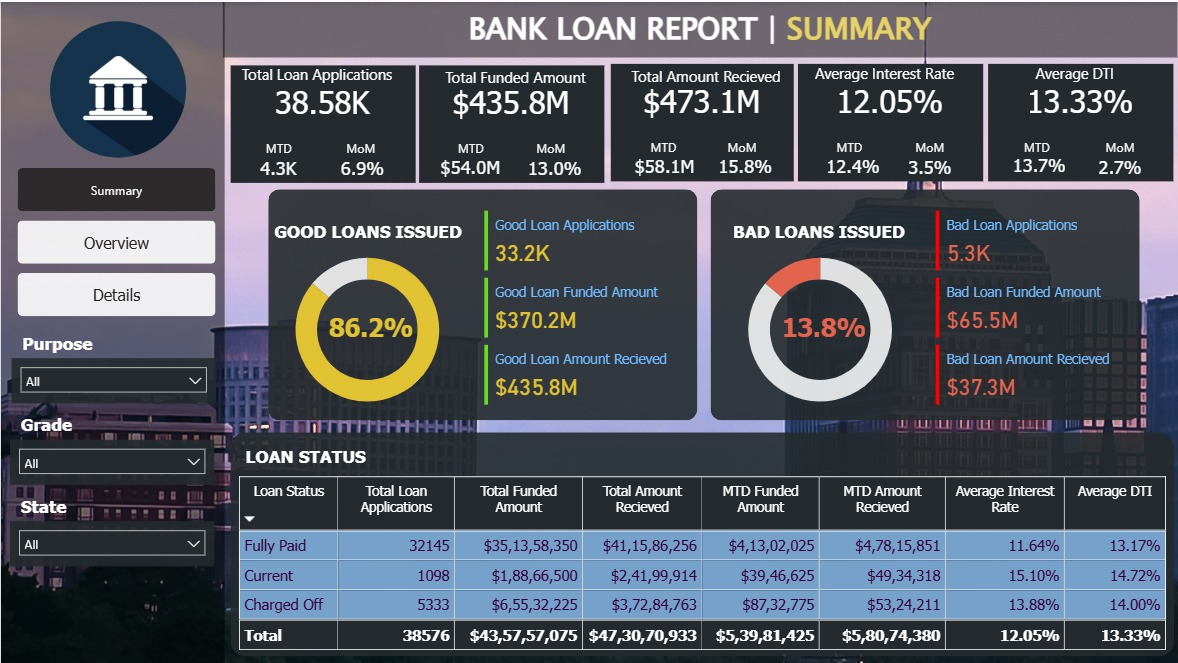

Layout of this report page (visuals, bound fields, positions):
{"tool":"powerbi","page":{"name":"Summary","canvas":[1280,720],"ordinal":0},"visuals":[{"type":"shape","box":[1072.5,67.5,201.2,127.6],"z":0,"group":"g5"},{"type":"shape","box":[661.9,67.8,198.8,127.6],"z":0,"group":"g3"},{"type":"shape","box":[865.9,67.8,201.2,127.6],"z":0,"group":"g4"},{"type":"shape","box":[248.8,68.5,201.2,127.6],"z":0,"group":"g2"},{"type":"shape","box":[454.4,68.6,201.2,127.6],"z":0,"group":"g1"},{"type":"slicer","fields":{"Values":["bank_loan_analysis.purpose"]},"box":[11,387.7,222.1,49.1],"z":0,"group":"g11"},{"type":"slicer","fields":{"Values":["bank_loan_analysis.grade"]},"box":[9.8,476,222.1,49.1],"z":0,"group":"g9"},{"type":"slicer","fields":{"Values":["bank_loan_analysis.address_state"]},"box":[9.8,564.4,222.1,49.1],"z":0,"group":"g8"},{"type":"textbox","box":[241.7,0,1036.8,60.1],"z":1000},{"type":"card","fields":{"Values":["bank_loan_analysis.Average DTI"]},"box":[1096.2,80.9,152.6,54],"z":1000,"group":"g5"},{"type":"card","fields":{"Values":["bank_loan_analysis.Average Interest Rate"]},"box":[889.6,81.2,152.6,54],"z":1000,"group":"g4"},{"type":"card","fields":{"Values":["bank_loan_analysis.Total Amount Recieved"]},"box":[685.4,81.3,150.8,54],"z":1000,"group":"g3"},{"type":"card","fields":{"Values":["bank_loan_analysis.Total Loan Applications"]},"box":[272.5,81.9,152.6,54],"z":1000,"group":"g2"},{"type":"card","fields":{"Values":["bank_loan_analysis.Total Funded Amount"]},"box":[478.1,82.1,152.6,54],"z":1000,"group":"g1"},{"type":"textbox","box":[17.1,354.6,184.1,47.9],"z":1000,"group":"g11"},{"type":"textbox","box":[15.9,442.9,184.1,47.9],"z":1000,"group":"g9"},{"type":"textbox","box":[15.9,531.3,184.1,47.9],"z":1000,"group":"g8"},{"type":"shape","box":[0,0,242.9,720.2],"z":2000},{"type":"card","fields":{"Values":["bank_loan_analysis.MTD Amount Recieved"]},"box":[678.3,164,83.8,30],"z":2000,"group":"g3"},{"type":"card","fields":{"Values":["bank_loan_analysis.MTD Funded Amount"]},"box":[472.6,165,75,30],"z":2000,"group":"g1"},{"type":"card","fields":{"Values":["bank_loan_analysis.MTD DTI"]},"box":[1091.9,165.1,71.2,28.8],"z":2000,"group":"g5"},{"type":"card","fields":{"Values":["bank_loan_analysis.MTD Interest Rate"]},"box":[890,166.3,70,28],"z":2000,"group":"g4"},{"type":"card","fields":{"Values":["bank_loan_analysis.MTD Loan Applications"]},"box":[268,166.6,64.4,28.2],"z":2000,"group":"g2"},{"type":"group","id":"g1","title":"Group 1","box":[454.4,64.9,201.2,131.3],"z":3000},{"type":"card","fields":{"Values":["bank_loan_analysis.MoM Recieved Amount"]},"box":[772.7,164.5,68.8,31.2],"z":3000,"group":"g3"},{"type":"card","fields":{"Values":["bank_loan_analysis.MoM Funded Amount"]},"box":[566.1,164.7,71.2,31.2],"z":3000,"group":"g1"},{"type":"card","fields":{"Values":["bank_loan_analysis.MoM DTI"]},"box":[1183.3,165.6,63.3,29.4],"z":3000,"group":"g5"},{"type":"card","fields":{"Values":["bank_loan_analysis.MoM Interest Rate"]},"box":[976.7,165.9,63.3,29.4],"z":3000,"group":"g4"},{"type":"card","fields":{"Values":["bank_loan_analysis.MoM Loan Applications"]},"box":[359.6,166.6,63.3,29.4],"z":3000,"group":"g2"},{"type":"textbox","box":[1075.5,61,181.6,40.5],"z":4000,"group":"g5"},{"type":"textbox","box":[868.9,61.3,181.6,40.5],"z":4000,"group":"g4"},{"type":"group","id":"g2","title":"Group 1","box":[248.8,62,201.2,134.1],"z":4000},{"type":"textbox","box":[251.8,62,181.6,40.5],"z":4000,"group":"g2"},{"type":"textbox","box":[673.6,64.1,184.3,38],"z":4000,"group":"g3"},{"type":"textbox","box":[466.3,64.9,186.5,38],"z":4000,"group":"g1"},{"type":"group","id":"g3","title":"Group 1","box":[661.9,64.1,198.8,131.6],"z":5000},{"type":"textbox","box":[698.2,142.9,42.5,31.3],"z":5000,"group":"g3"},{"type":"textbox","box":[899.9,143.3,43,31],"z":5000,"group":"g4"},{"type":"textbox","box":[1103.7,143.5,43.8,30],"z":5000,"group":"g5"},{"type":"textbox","box":[488.2,143.7,43.8,31.3],"z":5000,"group":"g1"},{"type":"textbox","box":[279.2,144,43,31],"z":5000,"group":"g2"},{"type":"group","id":"g4","title":"Group 1","box":[865.9,61.3,201.2,134.1],"z":6000},{"type":"textbox","box":[783.1,142.9,42.5,31.2],"z":6000,"group":"g3"},{"type":"textbox","box":[1188.4,143.3,54,30.7],"z":6000,"group":"g5"},{"type":"textbox","box":[981.8,143.6,54,30.7],"z":6000,"group":"g4"},{"type":"textbox","box":[575.6,143.7,43.8,31.2],"z":6000,"group":"g1"},{"type":"textbox","box":[363.8,144.5,53.8,30],"z":6000,"group":"g2"},{"type":"group","id":"g5","title":"Group 1","box":[1072.5,61,201.2,134.1],"z":7000},{"type":"shape","box":[290.1,203.8,466.3,251.3],"z":7000,"group":"g6"},{"type":"shape","box":[771.1,203.8,466.3,251.3],"z":7000,"group":"g7"},{"type":"group","id":"g6","title":"Group 2","box":[290.1,203.8,466.3,255.1],"z":8000},{"type":"donutChart","fields":{"Category":["bank_loan_analysis.loan_status (groups)"],"Y":["bank_loan_analysis.Total Loan Applications"]},"box":[295.1,252.6,205,206.3],"z":8000,"group":"g6"},{"type":"donutChart","fields":{"Category":["bank_loan_analysis.loan_status (groups)"],"Y":["bank_loan_analysis.Total Loan Applications"]},"box":[787.4,252.6,205,206.3],"z":8000,"group":"g7"},{"type":"group","id":"g7","title":"Group 2","box":[771.1,203.8,466.3,255.1],"z":9000},{"type":"textbox","box":[291.4,232.6,221.3,37.5],"z":9000,"group":"g6"},{"type":"textbox","box":[791.1,232.6,221.3,37.5],"z":9000,"group":"g7"},{"type":"card","fields":{"Values":["bank_loan_analysis.Good Loan Percent"]},"box":[351.4,322.6,101.3,66.3],"z":10000,"group":"g6"},{"type":"card","fields":{"Values":["bank_loan_analysis.Bad Loan Percent"]},"box":[843.6,322.6,101.3,66.3],"z":10000,"group":"g7"},{"type":"shape","box":[248.8,467.6,1025.2,243.8],"z":10000},{"type":"cardVisual","fields":{"Data":["bank_loan_analysis.Good Loan Applications","bank_loan_analysis.Good Loan Funded Amount","bank_loan_analysis.Good Loan Amount Recieved"]},"box":[518.9,222.6,226.3,222.5],"z":11000,"group":"g6"},{"type":"cardVisual","fields":{"Data":["bank_loan_analysis.Bad Loan Applications","bank_loan_analysis.Bad Loan Funded Amount","bank_loan_analysis.Bad Loan Amount Recieved"]},"box":[1011.1,222.6,226.3,222.5],"z":11000,"group":"g7"},{"type":"tableEx","fields":{"Values":["bank_loan_analysis.loan_status","bank_loan_analysis.Total Loan Applications","bank_loan_analysis.Total Funded Amount","bank_loan_analysis.Total Amount Recieved","bank_loan_analysis.MTD Funded Amount","bank_loan_analysis.MTD Amount Recieved","bank_loan_analysis.Average Interest Rate","bank_loan_analysis.Average DTI"]},"box":[252.6,510.1,1027.7,210],"z":11000},{"type":"group","id":"g8","title":"Group 2","box":[9.8,531.3,222.1,82.2],"z":11000,"group":"g10"},{"type":"group","id":"g9","title":"Group 2","box":[9.8,442.9,222.1,82.2],"z":12000,"group":"g10"},{"type":"textbox","box":[261.3,477.6,171.3,32.5],"z":12000},{"type":"group","id":"g10","title":"Group 3","box":[9.8,354.6,223.3,258.9],"z":13000},{"type":"group","id":"g11","title":"Group 2","box":[11,354.6,222.1,82.2],"z":13000,"group":"g10"},{"type":"pageNavigator","box":[17.5,180,215,163.8],"z":14000},{"type":"image","box":[0,11.2,248.8,162.5],"z":15000}]}

Visuals, with their boxes in screenshot pixels (x1, y1, x2, y2), scaled from the page's 1280x720 canvas onto the 1178x663 screenshot:
shape: region(987, 62, 1172, 180)
shape: region(609, 62, 792, 180)
shape: region(797, 62, 982, 180)
shape: region(229, 63, 414, 181)
shape: region(418, 63, 603, 181)
slicer - bank_loan_analysis.purpose: region(10, 357, 215, 402)
slicer - bank_loan_analysis.grade: region(9, 438, 213, 484)
slicer - bank_loan_analysis.address_state: region(9, 520, 213, 565)
textbox: region(222, 0, 1177, 55)
card - bank_loan_analysis.Average DTI: region(1009, 74, 1149, 124)
card - bank_loan_analysis.Average Interest Rate: region(819, 75, 959, 124)
card - bank_loan_analysis.Total Amount Recieved: region(631, 75, 770, 125)
card - bank_loan_analysis.Total Loan Applications: region(251, 75, 391, 125)
card - bank_loan_analysis.Total Funded Amount: region(440, 76, 580, 125)
textbox: region(16, 327, 185, 371)
textbox: region(15, 408, 184, 452)
textbox: region(15, 489, 184, 533)
shape: region(0, 0, 224, 662)
card - bank_loan_analysis.MTD Amount Recieved: region(624, 151, 701, 179)
card - bank_loan_analysis.MTD Funded Amount: region(435, 152, 504, 180)
card - bank_loan_analysis.MTD DTI: region(1005, 152, 1070, 179)
card - bank_loan_analysis.MTD Interest Rate: region(819, 153, 884, 179)
card - bank_loan_analysis.MTD Loan Applications: region(247, 153, 306, 179)
"Group 1" group: region(418, 60, 603, 181)
card - bank_loan_analysis.MoM Recieved Amount: region(711, 151, 774, 180)
card - bank_loan_analysis.MoM Funded Amount: region(521, 152, 587, 180)
card - bank_loan_analysis.MoM DTI: region(1089, 152, 1147, 180)
card - bank_loan_analysis.MoM Interest Rate: region(899, 153, 957, 180)
card - bank_loan_analysis.MoM Loan Applications: region(331, 153, 389, 180)
textbox: region(990, 56, 1157, 93)
textbox: region(800, 56, 967, 94)
"Group 1" group: region(229, 57, 414, 181)
textbox: region(232, 57, 399, 94)
textbox: region(620, 59, 790, 94)
textbox: region(429, 60, 601, 95)
"Group 1" group: region(609, 59, 792, 180)
textbox: region(643, 132, 682, 160)
textbox: region(828, 132, 868, 161)
textbox: region(1016, 132, 1056, 160)
textbox: region(449, 132, 490, 161)
textbox: region(257, 133, 297, 161)
"Group 1" group: region(797, 56, 982, 180)
textbox: region(721, 132, 760, 160)
textbox: region(1094, 132, 1143, 160)
textbox: region(904, 132, 953, 161)
textbox: region(530, 132, 570, 161)
textbox: region(335, 133, 384, 161)
"Group 1" group: region(987, 56, 1172, 180)
shape: region(267, 188, 696, 419)
shape: region(710, 188, 1139, 419)
"Group 2" group: region(267, 188, 696, 423)
donutChart - bank_loan_analysis.loan_status (groups) x bank_loan_analysis.Total Loan Applications: region(272, 233, 460, 423)
donutChart - bank_loan_analysis.loan_status (groups) x bank_loan_analysis.Total Loan Applications: region(725, 233, 913, 423)
"Group 2" group: region(710, 188, 1139, 423)
textbox: region(268, 214, 472, 249)
textbox: region(728, 214, 932, 249)
card - bank_loan_analysis.Good Loan Percent: region(323, 297, 417, 358)
card - bank_loan_analysis.Bad Loan Percent: region(776, 297, 870, 358)
shape: region(229, 431, 1172, 655)
cardVisual - bank_loan_analysis.Good Loan Applications x bank_loan_analysis.Good Loan Funded Amount: region(478, 205, 686, 410)
cardVisual - bank_loan_analysis.Bad Loan Applications x bank_loan_analysis.Bad Loan Funded Amount: region(931, 205, 1139, 410)
tableEx - bank_loan_analysis.loan_status x bank_loan_analysis.Total Loan Applications: region(232, 470, 1177, 662)
"Group 2" group: region(9, 489, 213, 565)
"Group 2" group: region(9, 408, 213, 484)
textbox: region(240, 440, 398, 470)
"Group 3" group: region(9, 327, 215, 565)
"Group 2" group: region(10, 327, 215, 402)
pageNavigator: region(16, 166, 214, 317)
image: region(0, 10, 229, 160)
